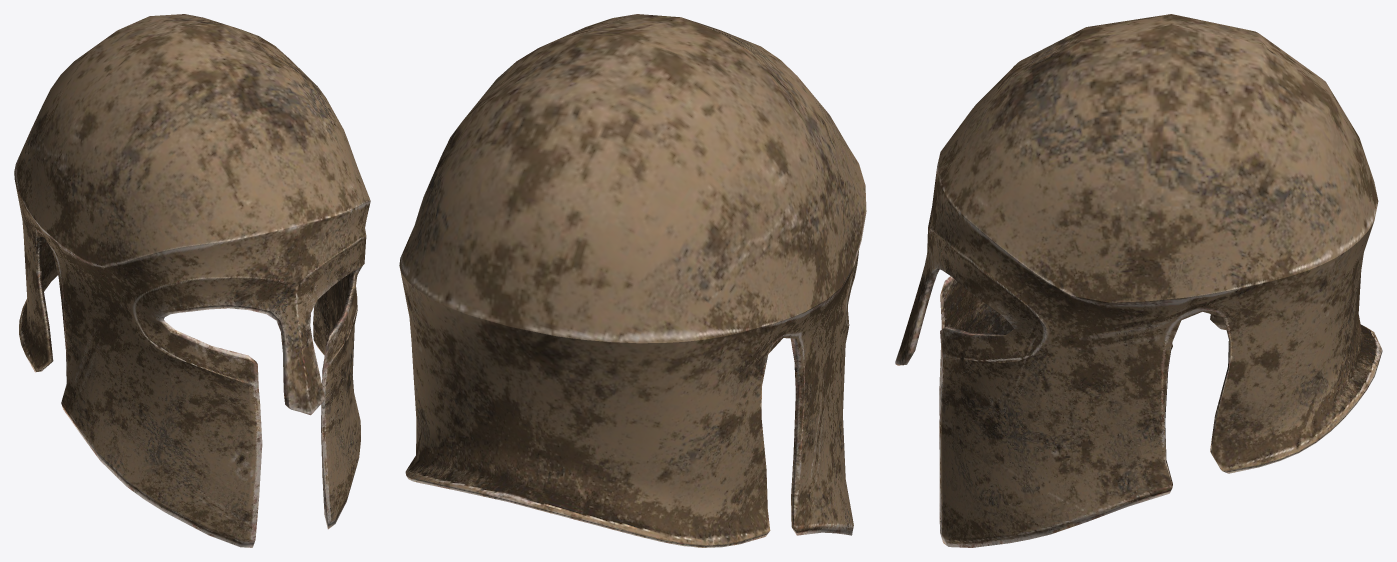
The model's file is SampleScene.glb.
The picture shows the model from 3 angles, left to right: view 1: azimuth 30°, elevation 25°; view 2: azimuth 150°, elevation 25°; view 3: azimuth 270°, elevation 25°; orthographic projection. The views are drawn at different scales.
Parts seen in each view (by area): view 1: CorinthianHelmet_LOD0; view 2: CorinthianHelmet_LOD0; view 3: CorinthianHelmet_LOD0.
Part boxes in pixels (x1,y1,x2,y2): CorinthianHelmet_LOD0: (14, 14, 370, 547); CorinthianHelmet_LOD0: (399, 14, 866, 547); CorinthianHelmet_LOD0: (895, 14, 1382, 547).
Size of what is drawn, in the model's own units: 0.1968 by 0.2908 by 0.2593.
Materials: 1 (1 with a texture image).
